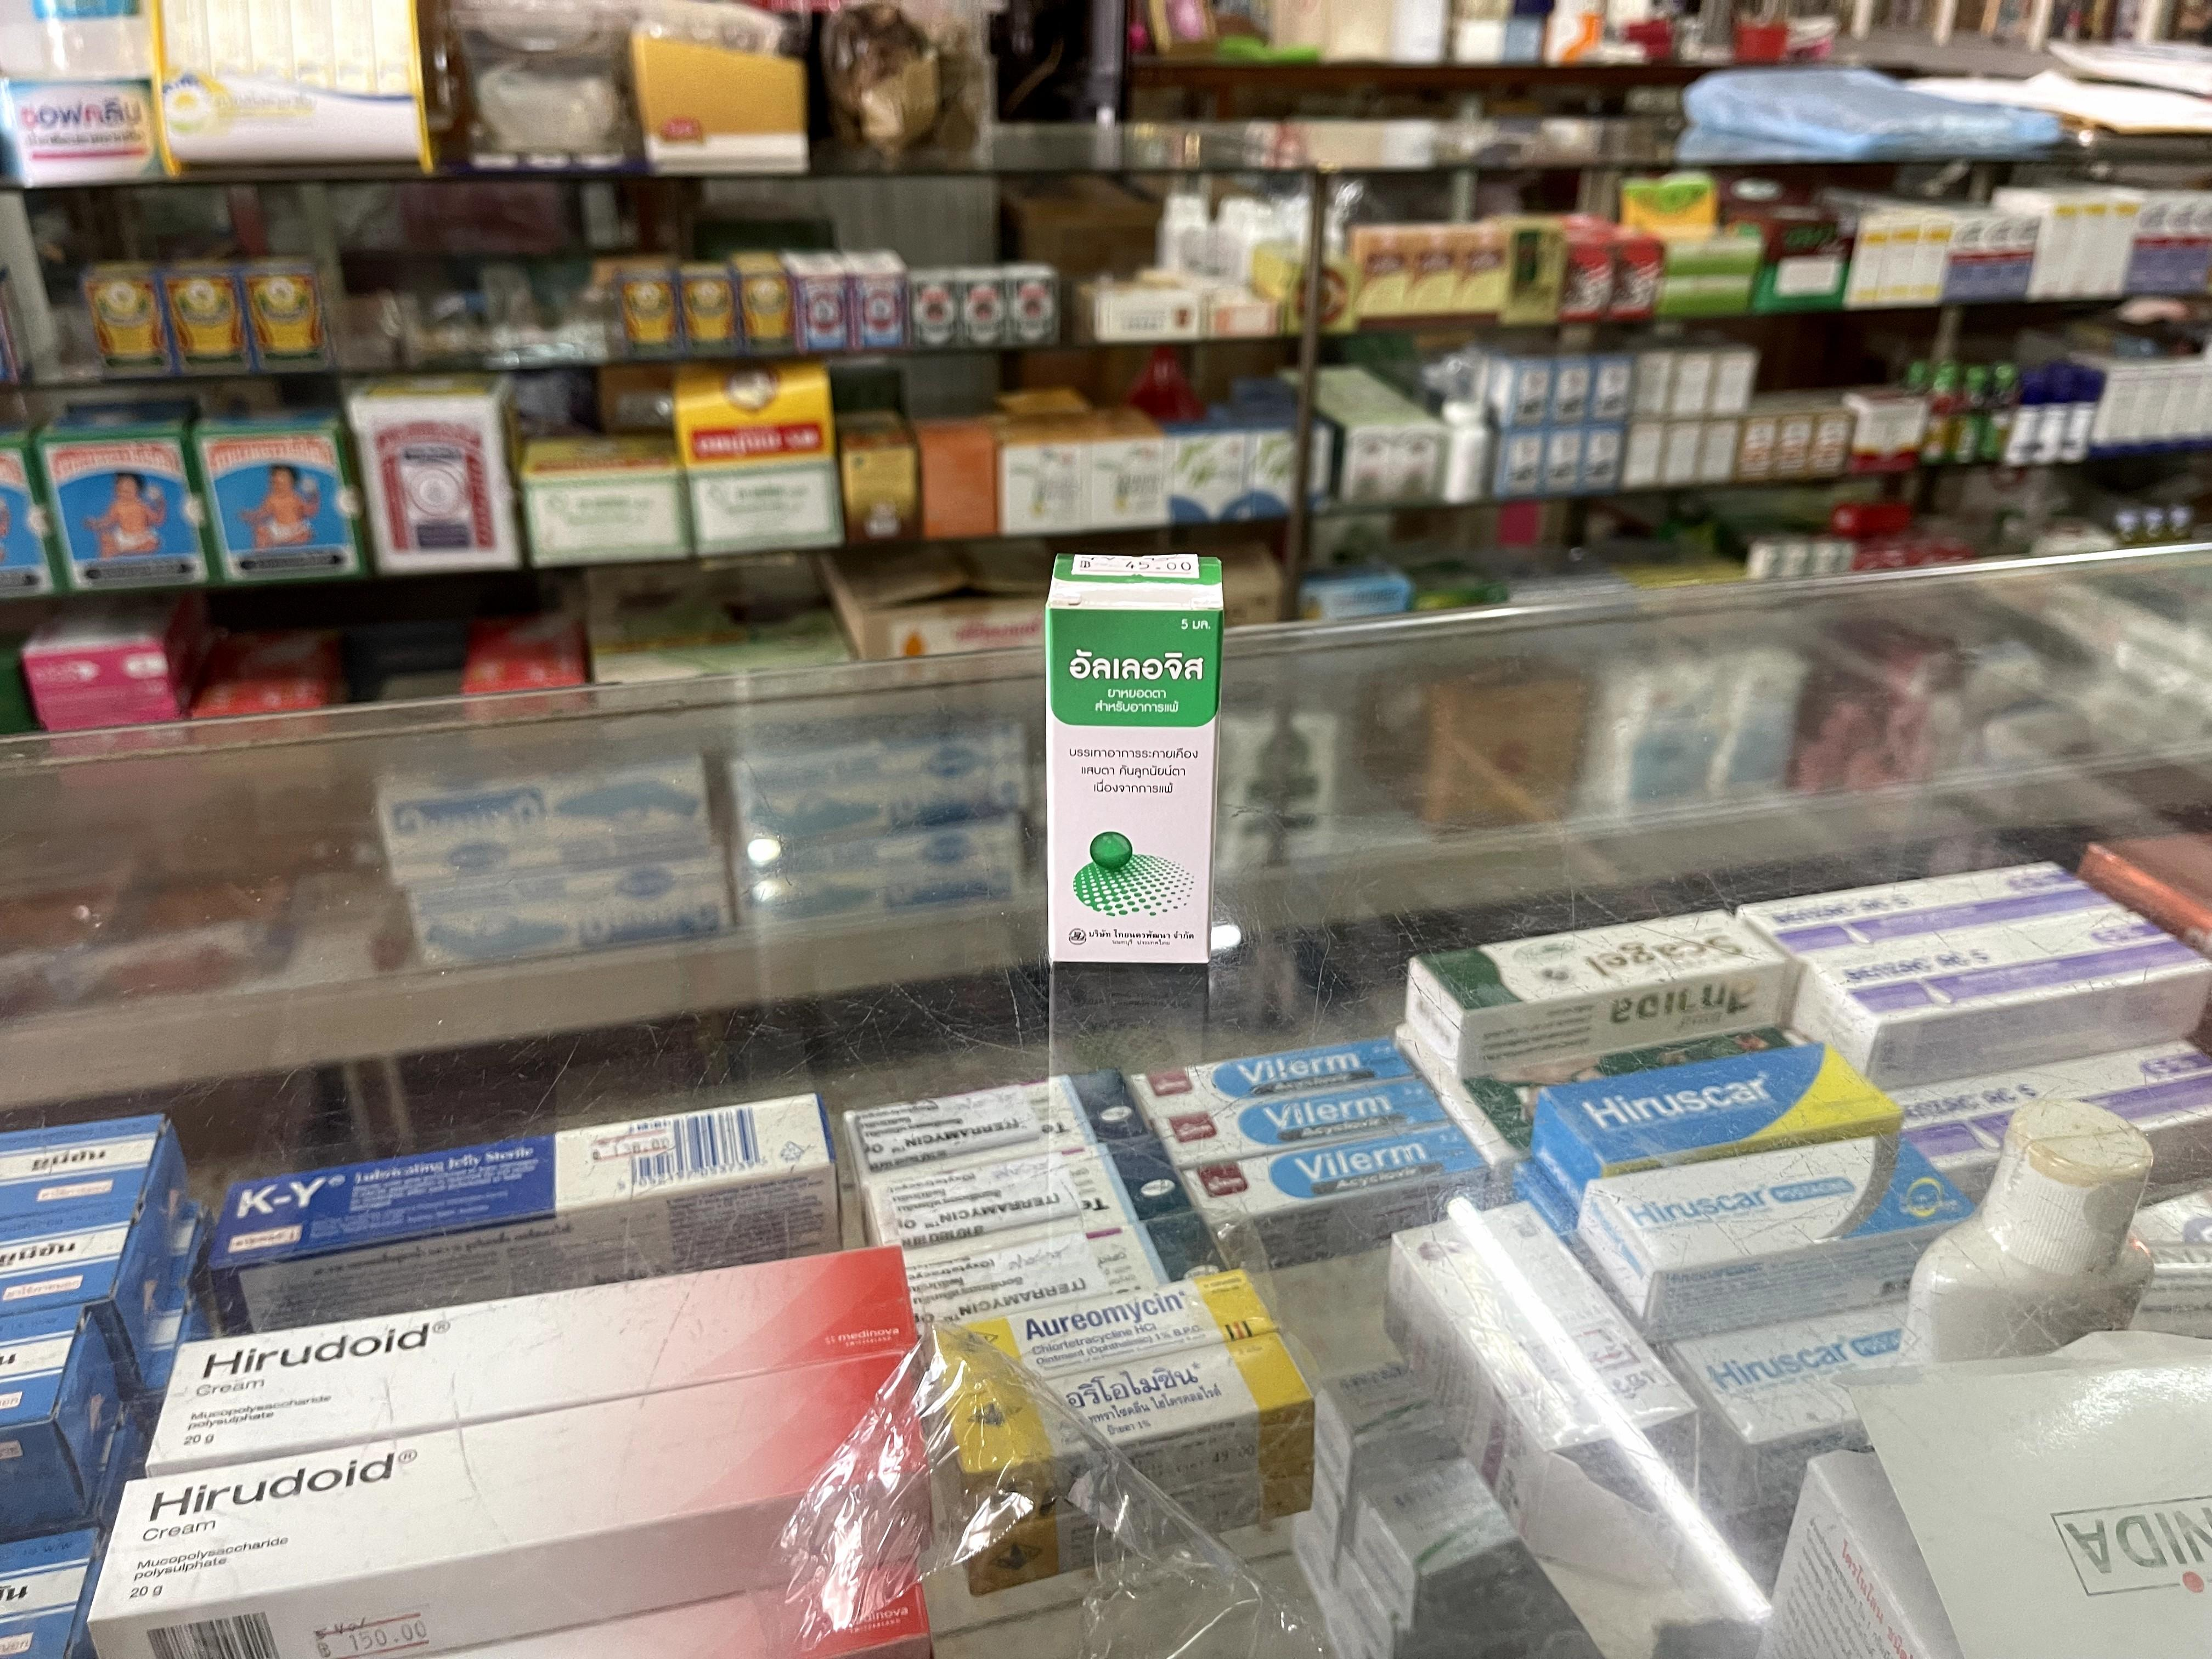Allergis: (1045, 549, 1223, 962)
